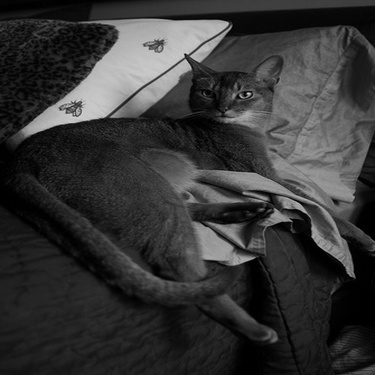cat: (14, 50, 285, 344)
